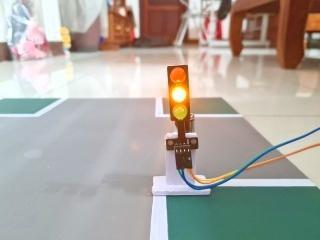yellow: (154, 53, 206, 131)
